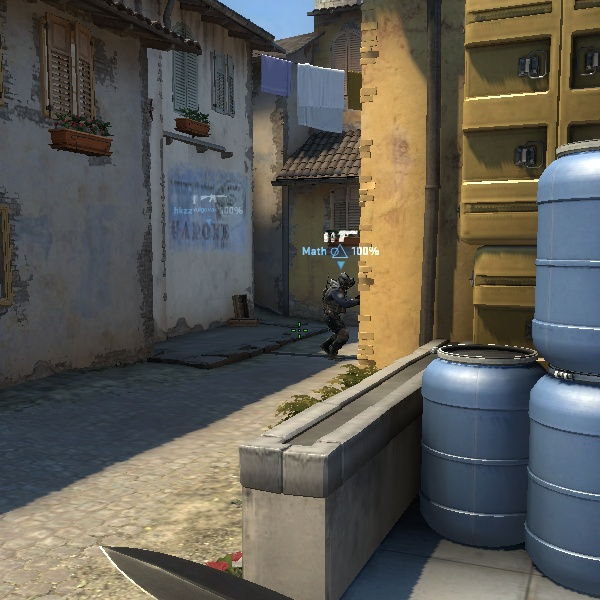ct_body: (315, 265, 362, 358)
